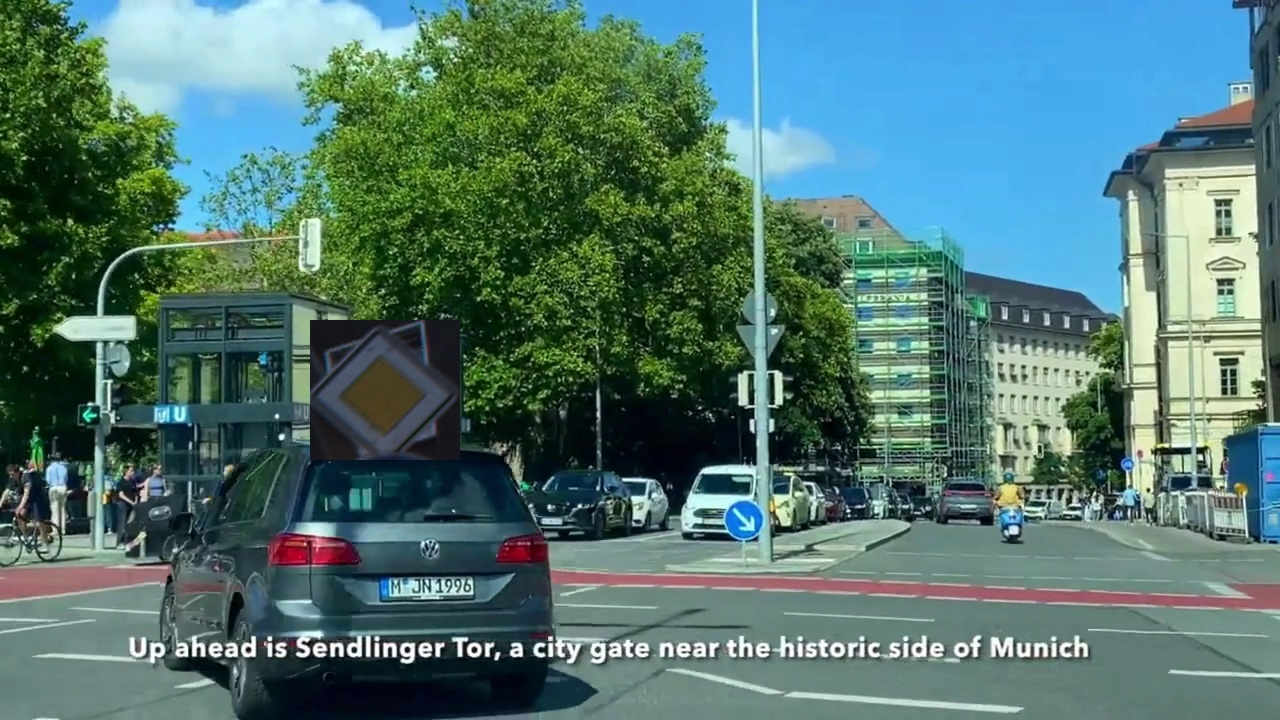Priority road: (310, 320, 460, 460)
